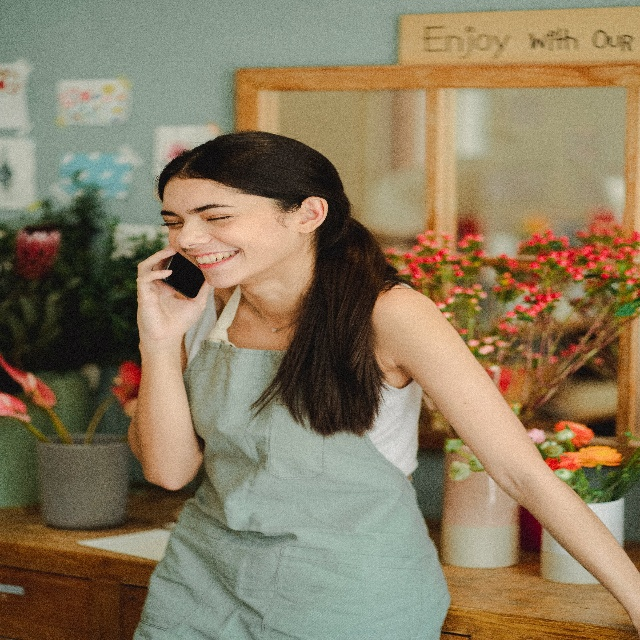Sin_guantes: (134, 244, 212, 355)
